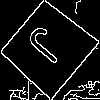J: (23, 23, 76, 73)
